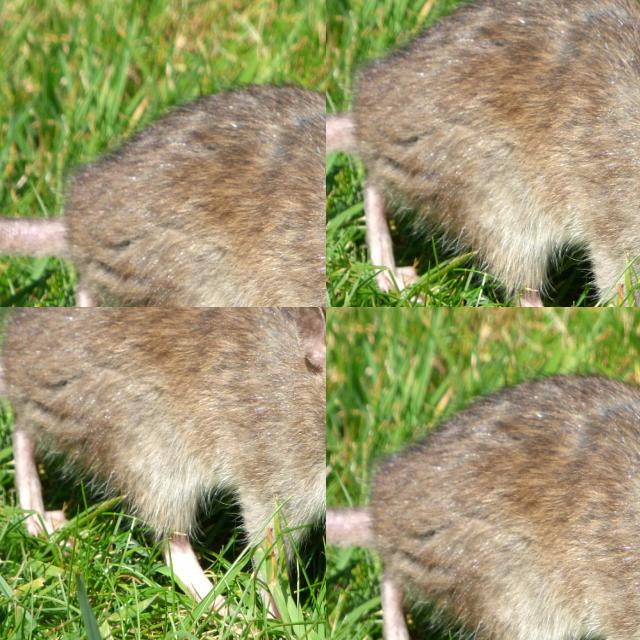rat: (368, 373, 640, 640), (211, 113, 326, 307), (0, 357, 56, 459)
